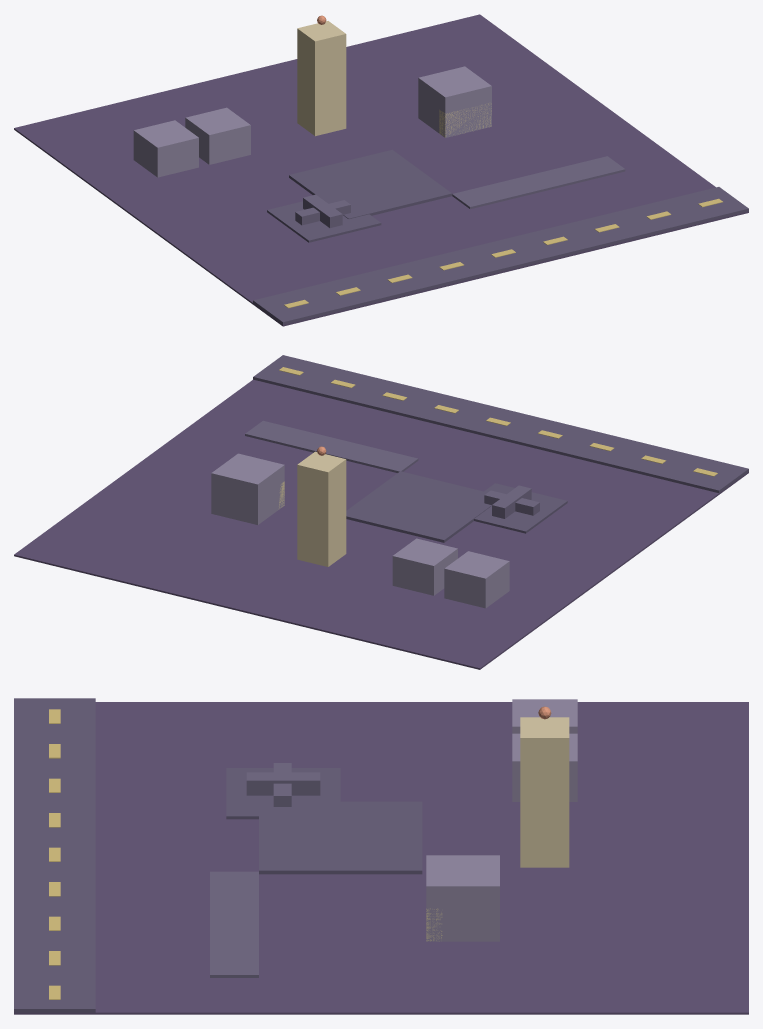
File: stage_07.glb
3 renders of one model, top to bottom at view 1: azimuth 30°, elevation 25°; view 2: azimuth 150°, elevation 25°; view 3: azimuth 270°, elevation 25°, orthographic. The views are drawn at different scales.
Parts seen in each view (by area): view 1: geometry_0; view 2: geometry_0; view 3: geometry_0.
Part boxes in pixels (x1=…): geometry_0: x1=14, y1=14, x2=748, y2=326; geometry_0: x1=14, y1=355, x2=748, y2=669; geometry_0: x1=14, y1=698, x2=748, y2=1014.
Size of the model in its own units: 9 by 2.06 by 9.
